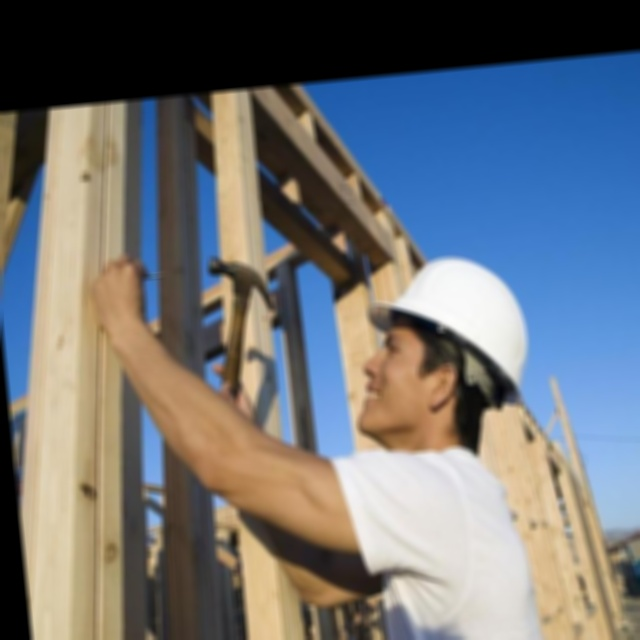Con_Casco: (343, 246, 534, 447)
Sin_Chaleco: (325, 436, 551, 640)
